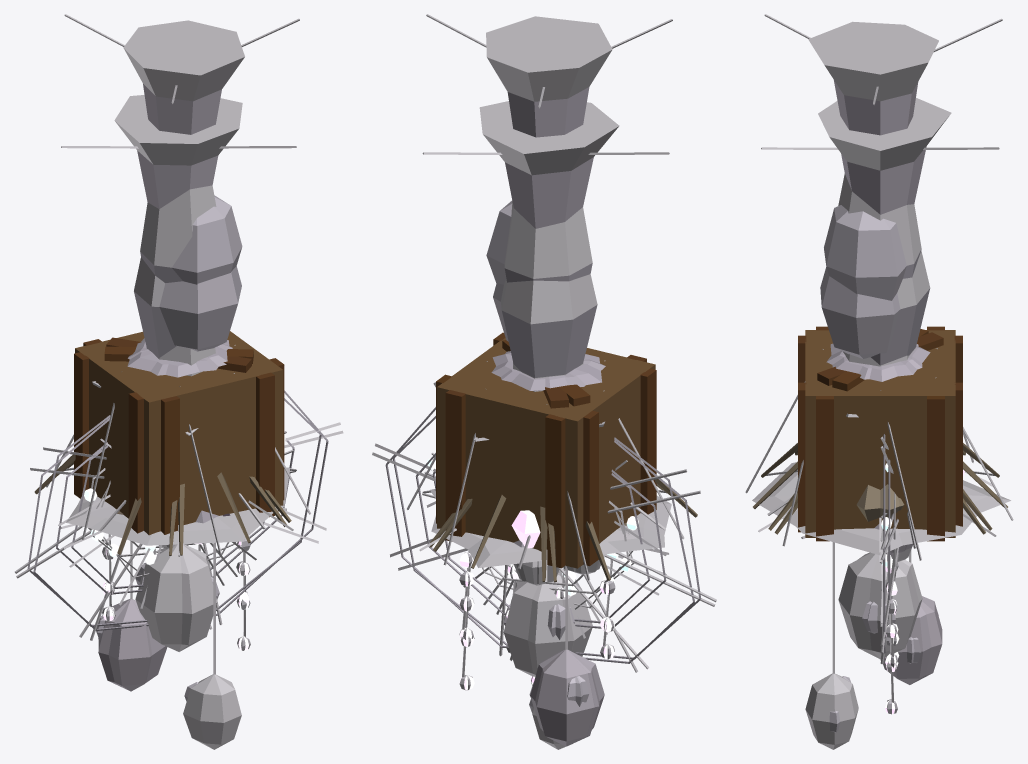
File: nests.glb
3 renders of one model, left to right at view 1: azimuth 30°, elevation 25°; view 2: azimuth 150°, elevation 25°; view 3: azimuth 270°, elevation 25°, orthographic. The views are drawn at different scales.
Parts seen in each view (by area): view 1: nests_webbed_crate_a, nests_web_pillar_b, nests_web_pillar_a, nests_hanging_egg_sacs_b, nests_hanging_egg_sacs_a, nests_web_sheet_a, nests_web_sheet_b, nests_glow_eggs_a, nests_webbed_crate_b, nests_shed_exoskeleton_a, nests_dew_web_b, nests_glow_eggs_b (+2 smaller); view 2: nests_webbed_crate_a, nests_web_pillar_a, nests_web_pillar_b, nests_hanging_egg_sacs_a, nests_hanging_egg_sacs_b, nests_web_sheet_a, nests_web_sheet_b, nests_glow_eggs_b, nests_webbed_crate_b, nests_shed_exoskeleton_a, nests_glow_eggs_a, nests_glow_silk_b (+5 smaller); view 3: nests_webbed_crate_a, nests_web_pillar_b, nests_web_pillar_a, nests_hanging_egg_sacs_b, nests_hanging_egg_sacs_a, nests_shed_exoskeleton_a, nests_glow_eggs_b, nests_glow_eggs_a, nests_webbed_crate_b, nests_web_sheet_a, nests_shed_exoskeleton_b.
Part boxes in pixels (x1,y1,x2,y2): nests_webbed_crate_a: [46, 331, 284, 554]; nests_web_pillar_b: [58, 14, 299, 530]; nests_web_pillar_a: [61, 95, 296, 556]; nests_hanging_egg_sacs_b: [96, 542, 241, 749]; nests_hanging_egg_sacs_a: [97, 541, 219, 691]; nests_web_sheet_a: [16, 390, 343, 637]; nests_web_sheet_b: [14, 398, 340, 640]; nests_glow_eggs_a: [77, 493, 272, 545]; nests_webbed_crate_b: [82, 340, 310, 539]; nests_shed_exoskeleton_a: [34, 454, 291, 555]; nests_dew_web_b: [63, 438, 293, 608]; nests_glow_eggs_b: [66, 467, 290, 527]; nests_webbed_crate_a: [407, 332, 656, 580]; nests_web_pillar_a: [422, 101, 669, 582]; nests_web_pillar_b: [419, 14, 672, 555]; nests_hanging_egg_sacs_a: [503, 565, 604, 746]; nests_hanging_egg_sacs_b: [503, 571, 599, 749]; nests_web_sheet_a: [372, 382, 715, 669]; nests_web_sheet_b: [375, 416, 716, 672]; nests_glow_eggs_b: [430, 489, 664, 567]; nests_webbed_crate_b: [443, 340, 684, 565]; nests_shed_exoskeleton_a: [429, 476, 697, 581]; nests_glow_eggs_a: [426, 495, 671, 569]; nests_glow_silk_b: [459, 552, 614, 690]; nests_webbed_crate_a: [745, 326, 973, 560]; nests_web_pillar_b: [758, 14, 1002, 536]; nests_web_pillar_a: [761, 98, 999, 562]; nests_hanging_egg_sacs_b: [805, 542, 931, 749]; nests_hanging_egg_sacs_a: [838, 550, 942, 684]; nests_shed_exoskeleton_a: [753, 443, 1007, 534]; nests_glow_eggs_b: [796, 459, 1010, 555]; nests_glow_eggs_a: [752, 462, 992, 548]; nests_webbed_crate_b: [782, 329, 1013, 546]; nests_web_sheet_a: [880, 446, 898, 664]; nests_shed_exoskeleton_b: [768, 484, 992, 530].
Bounding box in the file's own units: 1.17 × 2.36 × 0.8217.
